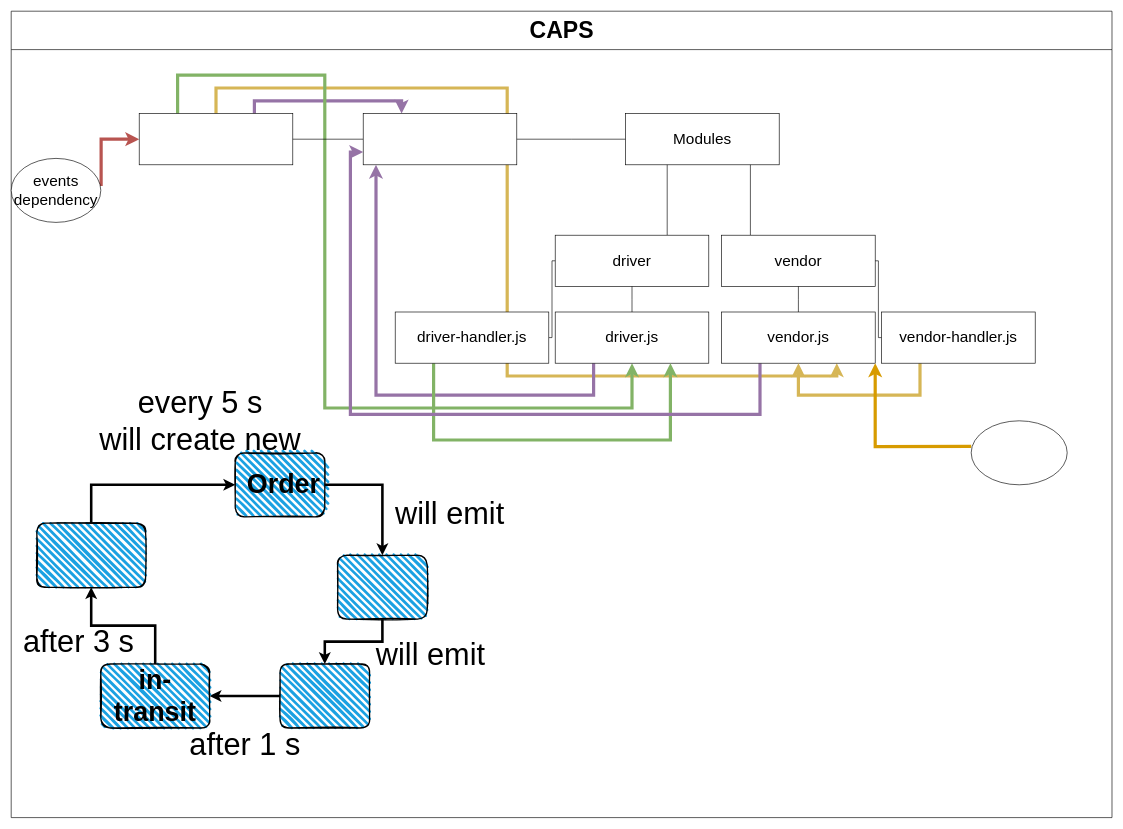
This 1123x829 diagram has some shape labels left out. Each missing label, with the box of its shape:
caps.js: (363, 113, 517, 165)
deliverd: (36, 522, 146, 588)
Event: (337, 554, 428, 620)
events.js: (139, 113, 293, 165)
faker dependency: (971, 420, 1067, 485)
pickup: (279, 663, 370, 728)
